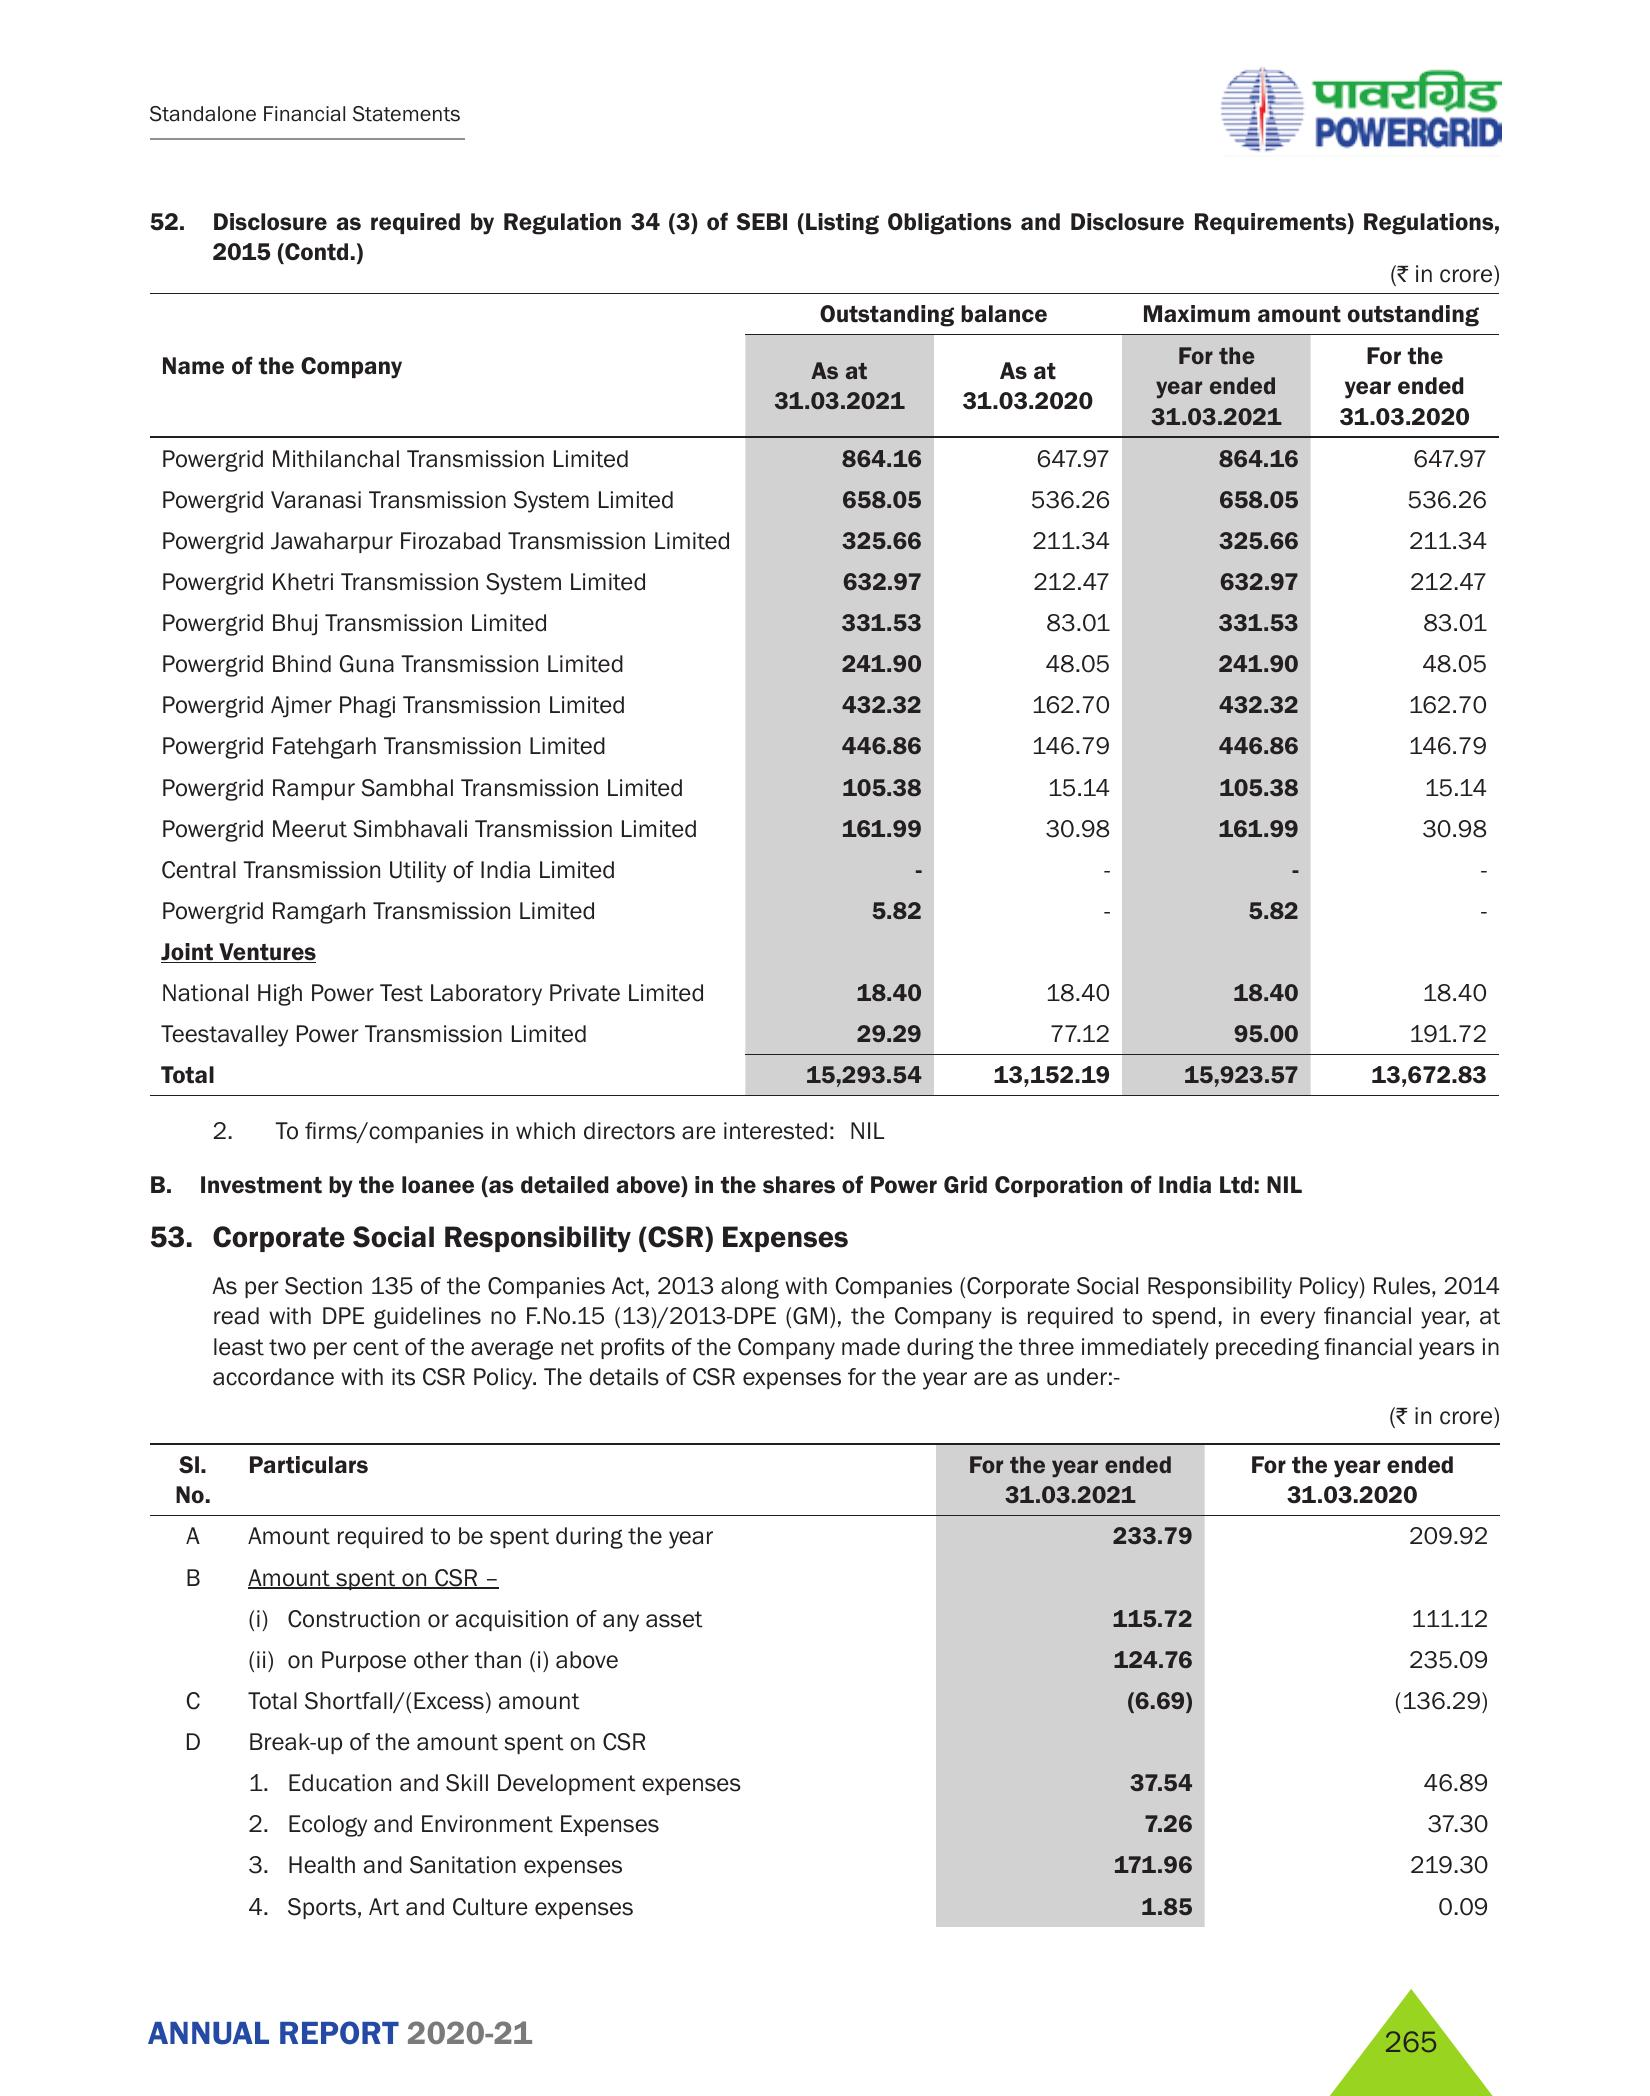Footer: (0, 1956, 1650, 2096)
Header: (0, 0, 1650, 172)
Table: (139, 289, 1499, 1102), (114, 1443, 1499, 1924)
